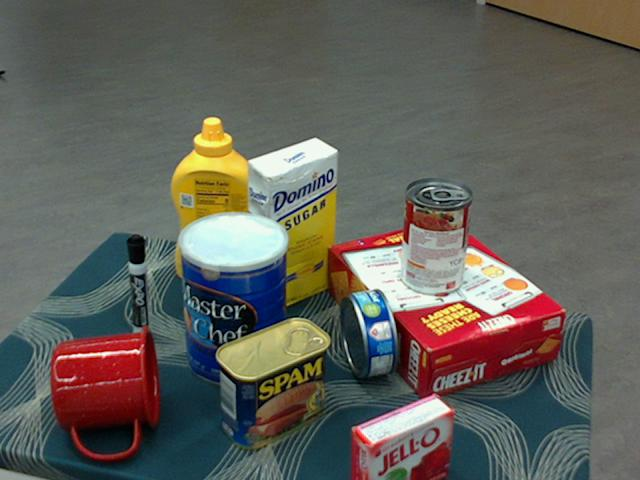cracker_box: (326, 220, 563, 397)
gelatin_box: (348, 394, 451, 479)
large_marker: (126, 234, 149, 341)
master_chef_can: (180, 213, 289, 388)
mug: (51, 325, 160, 459)
mustard_bottle: (170, 118, 260, 286)
potted_meat_can: (216, 318, 330, 449)
sugar_box: (248, 139, 338, 314)
tomato_soup_can: (399, 180, 472, 297)
tuna_fish_can: (340, 288, 398, 377)
